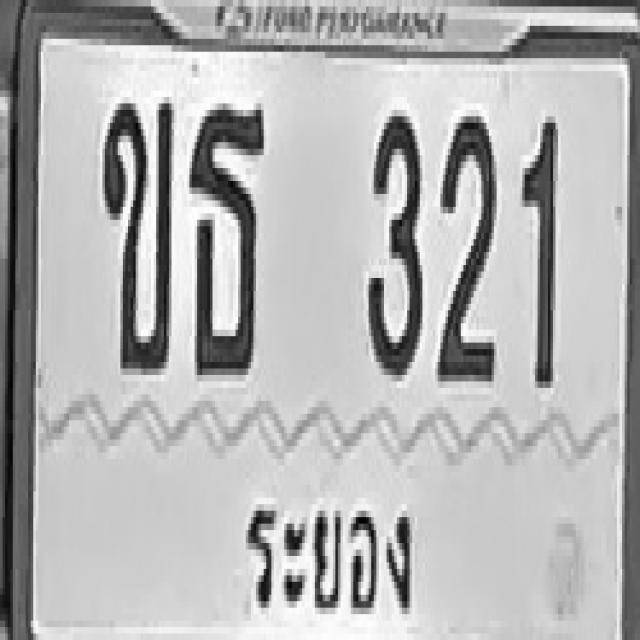1: (521, 116, 557, 388)
11KhorKhai: (102, 97, 172, 368)
2: (436, 110, 496, 381)
3: (366, 110, 422, 375)
33ThorThong: (188, 100, 265, 378)
Rayong: (226, 467, 432, 618)
